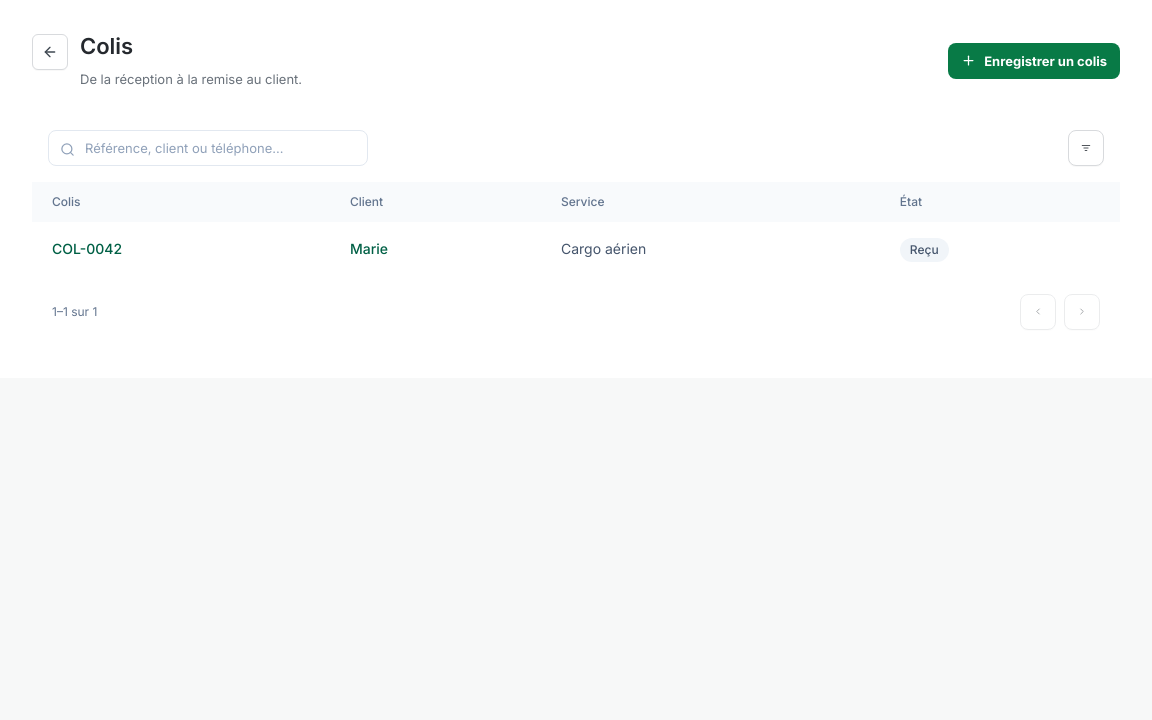
Test: Registre fret › conserve la correction lorsque le serveur détecte une version obsolète
Click the button "COL-0042": [87, 249] box [52,239,122,259]
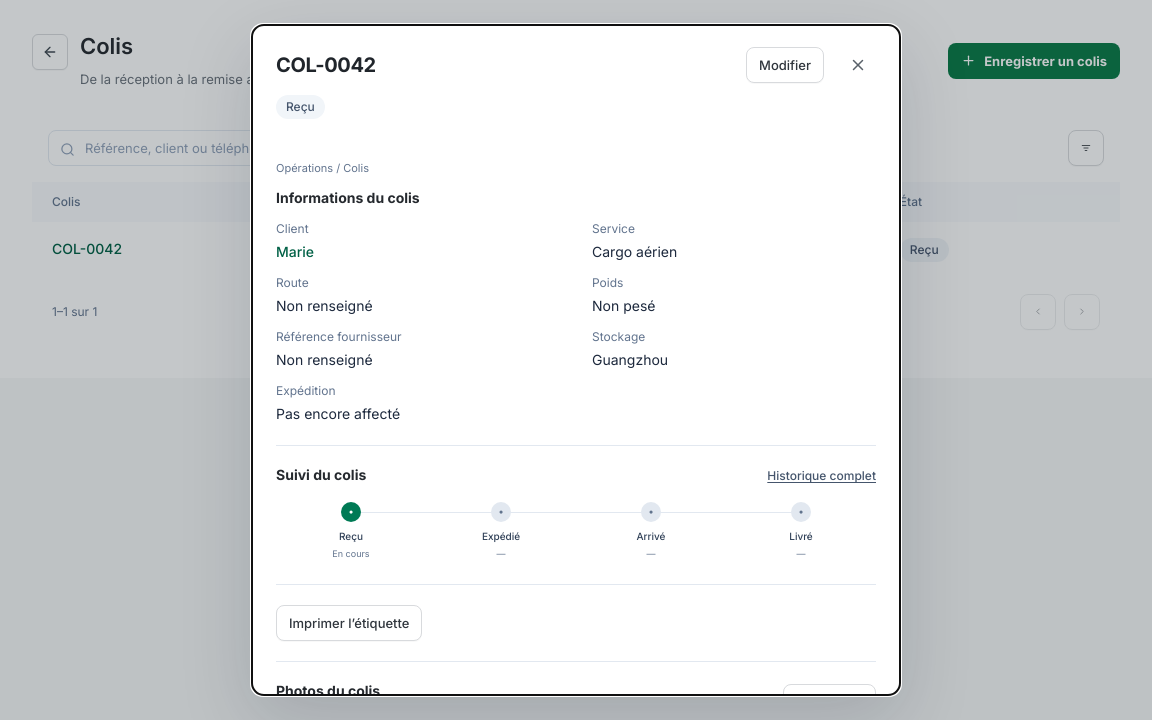
Click the button with aria-label "Modifier le colis": [785, 65] box [746,47,824,83]
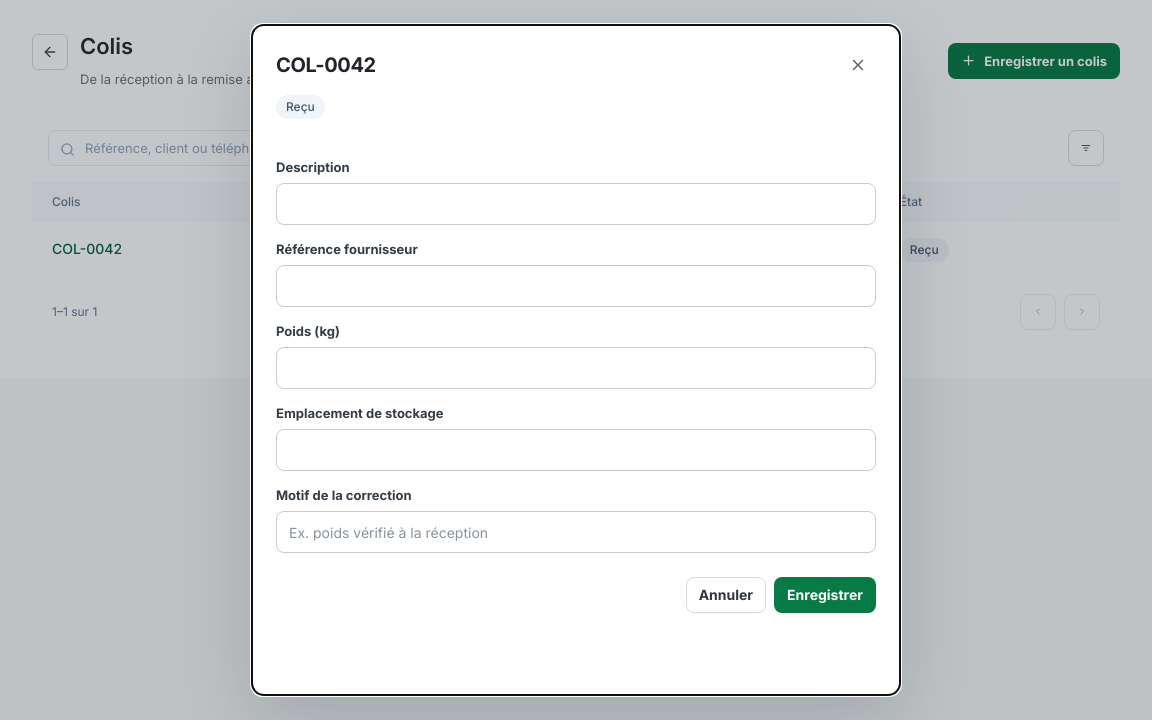
In the field labelled "Description": [576, 204] box [276,183,876,225], type "Fragile"
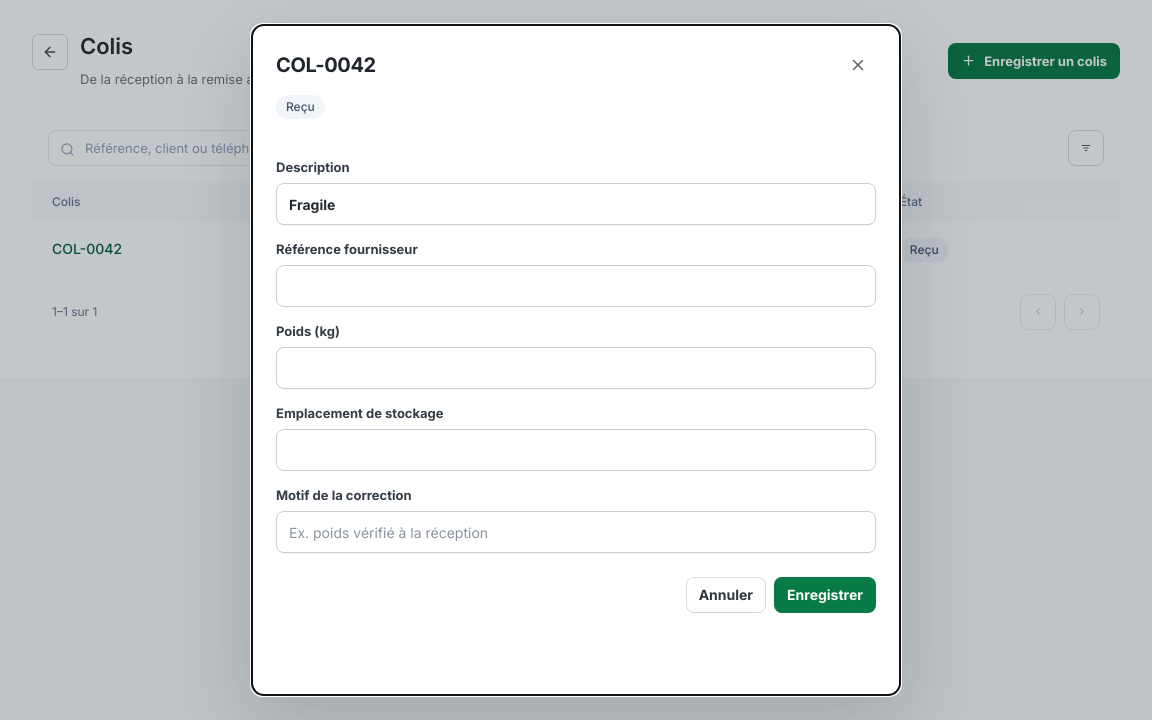
In the field labelled "Motif de la correction": [576, 532] box [276,511,876,553], type "Contrôle réception"
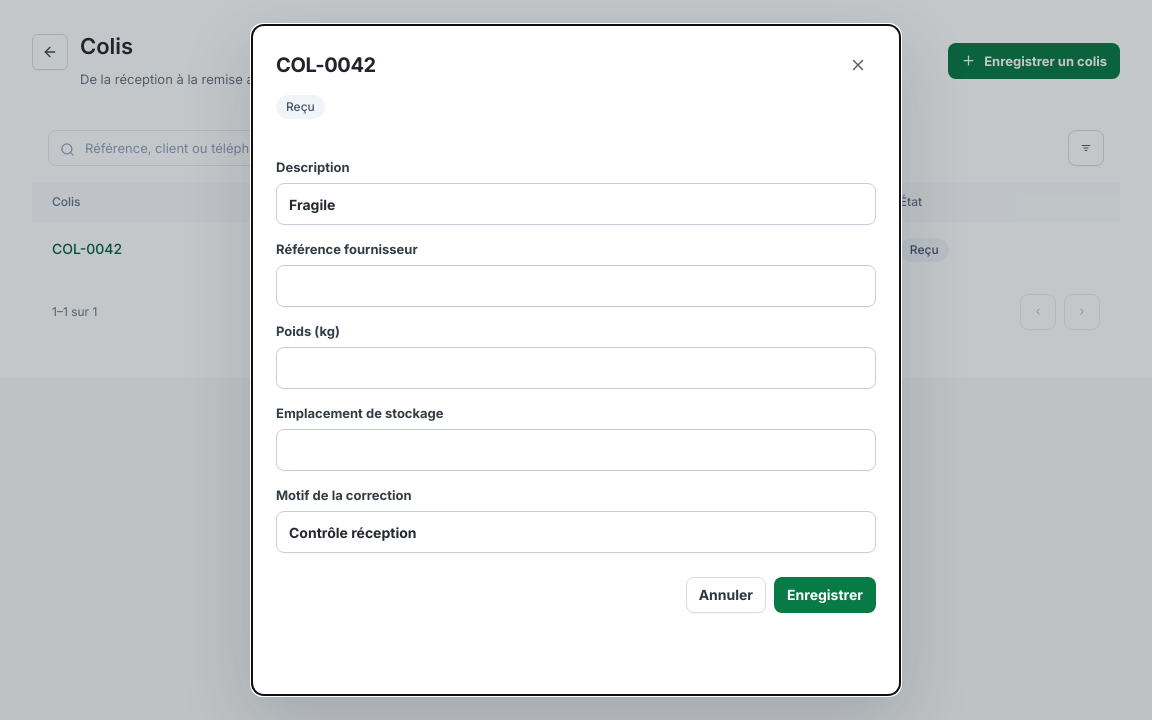
Submit the form, box [276,159,876,613]
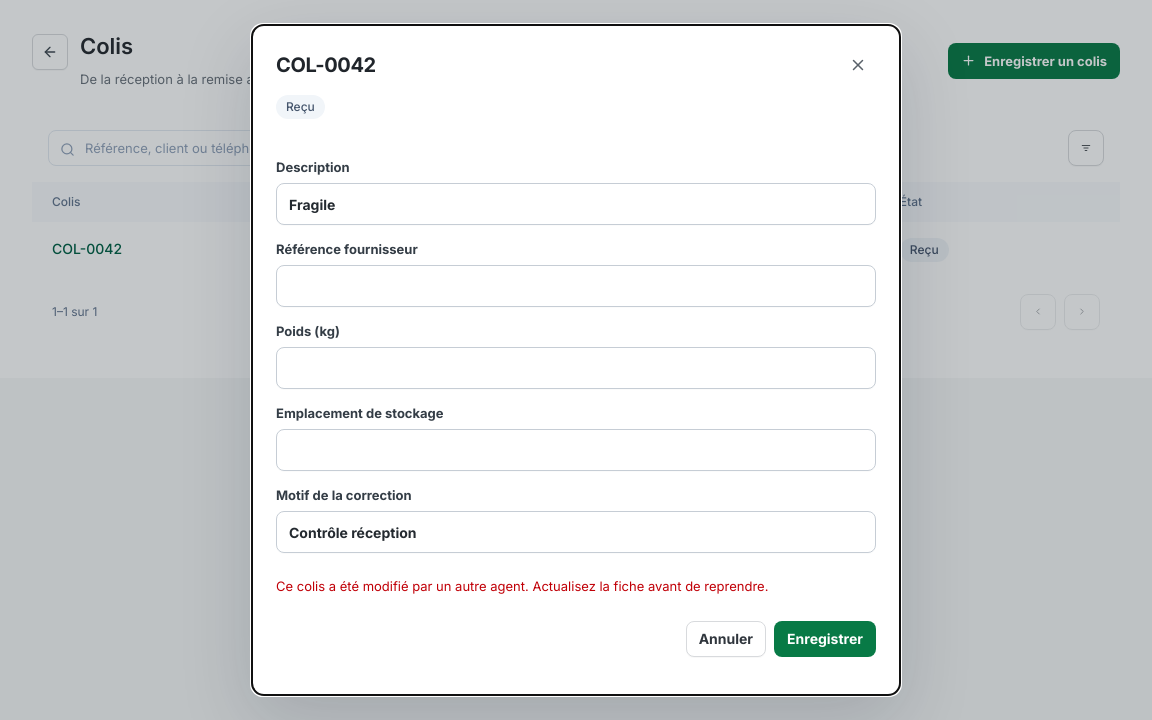
Now the message shows "modifié par un autre agent", box [276,579,768,595]
